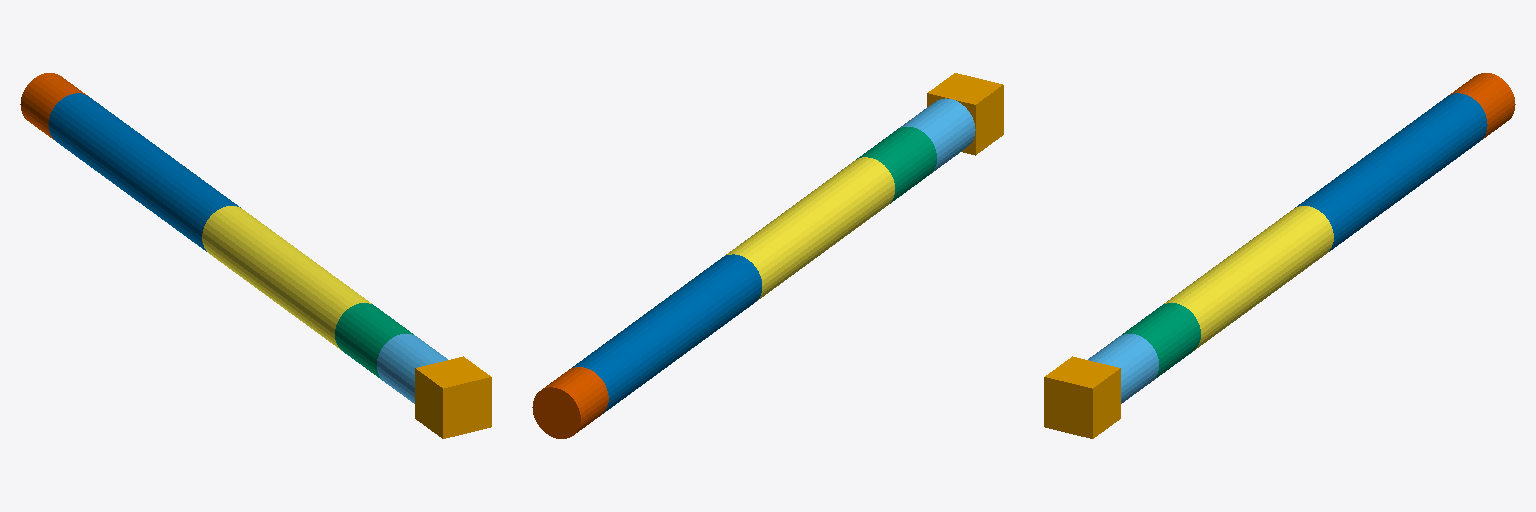
The robot description file, URDF, robot "robot_brazo":
<?xml version="1.0"?>
<robot name="robot_brazo">
    <static> false </static>
    <link name="base">
        <visual>
        <geometry>
            <box size="0.4 0.4 0.4"/>
        </geometry>
        <origin rpy="0 0 0" xyz="0 0 0"/>
        </visual>
        <collision>
        <origin xyz="0 0 0" rpy="0 0 0" />
        <geometry>
            <box size="0.4 0.4 0.4"/>
        </geometry>
        </collision>
        <inertial>
        <mass value="1.05" />
        <inertia ixx="6.905" ixy="0.82" ixz="0.0" iyy="3.99" iyz="0.0" izz="6.58" />
        </inertial>
    </link>
    <gazebo reference="base">
        <material>Gazebo/Blue</material>
    </gazebo>

    <joint name="base-0_joint" type="revolute">
        <parent link="base"/>
        <child link="0_link"/>
        <origin rpy="0 0 0" xyz="0 0.2 0"/>
        <axis xyz="1 0 0" />
        <limit effort="300" velocity="0.1" lower="-1.4" upper="1.4"/>
        <dynamics damping="50" friction="1"/>
    </joint>

    <link name="0_link">
        <visual>
        <geometry>
            <cylinder length="0.55" radius="0.2"/>
        </geometry>
        <origin rpy="1.5708 0 0" xyz="0 0.275 0"/>
        </visual>
        <collision>
        <geometry>
            <cylinder length="0.55" radius="0.2"/>
        </geometry>
        <origin rpy="1.5708 0 0" xyz="0 0.275 0"/>
        </collision>
        <inertial>
        <mass value="1.05" />
        <inertia ixx="6.905" ixy="0.82" ixz="0.0" iyy="3.99" iyz="0.0" izz="6.58" />
        </inertial>
    </link>
    <gazebo reference="0_link">
        <material>Gazebo/Black</material>
    </gazebo>

    <joint name="0-1_joint" type="revolute">
        <parent link="0_link"/>
        <child link="1_link"/>
        <origin rpy="0 0 0" xyz="0 0.55 0" />
        <axis xyz="1 0 0" />
        <limit effort="300" velocity="0.1" lower="-1" upper="1"/>
        <dynamics damping="50" friction="1"/>
    </joint>

    <link name="1_link">
        <visual>
        <geometry>
            <cylinder length="0.6" radius="0.2"/>
        </geometry>
        <origin rpy="1.5708 0 0" xyz="0 0.3 0"/>
        
        </visual>
        <collision>
        <geometry>
            <cylinder length="0.6" radius="0.2"/>
        </geometry>
        <origin rpy="1.5708 0 0" xyz="0 0.3 0"/>
        </collision>
        <inertial>
        <mass value="1.553" />
        <inertia ixx="19.69" ixy="2.25" ixz="0.40" iyy="6.09" iyz="-1.97" izz="19.58" />
        </inertial>
    </link>
    <gazebo reference="1_link">
        <material>Gazebo/White</material>
    </gazebo>

    <joint name="1-2_joint" type="revolute">
        <parent link="1_link"/>
        <child link="2_link"/>
        <origin rpy="0 0 0" xyz="0 0.6 0"/>
        <axis xyz="1 0 0" />
        <limit effort="300" velocity="0.1" lower="-1.15" upper="1.15"/>
        <dynamics damping="50" friction="1"/>
    </joint>

    <link name="2_link">
        <visual>
        <geometry>
            <cylinder length="1.9" radius="0.2"/>
        </geometry>
        <origin rpy="1.5708 0 0" xyz="0 0.95 0"/>
        
        </visual>
        <collision>
        <geometry>
            <cylinder length="1.9" radius="0.2"/>
        </geometry>
        <origin rpy="1.5708 0 0" xyz="0 0.95 0"/>
        </collision>
        <inertial>
        <mass value="3.995" />
        <inertia ixx="89.92" ixy="61.25" ixz="10.30" iyy="71.41" iyz="-12.32" izz="141.58" />
        </inertial>
    </link>
    <gazebo reference="2_link">
        <material>Gazebo/Grey</material>
    </gazebo>


    <joint name="2-4_joint" type="revolute">
        <parent link="2_link"/>
        <child link="4_link"/>
        <origin rpy="0 0 0" xyz="0 1.9 0"/>
        <axis xyz="1 0 0" />
        <limit effort="300" velocity="0.1" lower="-1.1" upper="1.85"/>
        <dynamics damping="50" friction="1"/> 
    </joint>

    <link name="4_link">
        <visual>
        <geometry>
            <cylinder length="2.2" radius="0.2"/>
        </geometry>
        <origin rpy="1.5708 0 0" xyz="0 1.1 0"/>
        <material name="blue" />
        </visual>
        <collision>
        <geometry>
            <cylinder length="2.2" radius="0.2"/>
        </geometry>
        <origin rpy="1.5708 0 0" xyz="0 1.1 0"/>
        </collision>
        <inertial>
        <mass value="4.673" />
        <inertia ixx="196.77" ixy="18.68" ixz="4.70" iyy="33.48" iyz="-41.77" izz="188.74" />
        </inertial>
    </link>
    <gazebo reference="4_link">
        <material>Gazebo/White</material>
    </gazebo>

    <joint name="4-5_joint" type="revolute">
        <parent link="4_link"/>
        <child link="5_link"/>
        <origin rpy="0 0 0" xyz="0 2.2 0"/>
        <axis xyz="1 0 0" />
        <limit effort="300" velocity="0.1" lower="-0.85" upper="0.85"/>
        <dynamics damping="50" friction="1"/>
    </joint>

    <link name="5_link">
        <visual>
        <geometry>
            <cylinder length="0.4" radius="0.2"/>
        </geometry>
        <origin rpy="1.5708 0 0" xyz="0 0.2 0"/>
        
        </visual>
        <collision>
        <geometry>
            <cylinder length="0.4" radius="0.2"/>
        </geometry>
        <origin rpy="1.5708 0 0" xyz="0 0.2 0"/>
        </collision>
        <inertial>
        <mass value="0.875" />
        <inertia ixx="5.27" ixy="-22.62" ixz="-15.65" iyy="2.96" iyz="-0.448" izz="4.72" />
        </inertial>
    </link>
    <gazebo reference="5_link">
        <material>Gazebo/Black</material>
    </gazebo>

    <joint name="5-6_joint" type="revolute">
        <parent link="5_link"/>
        <child link="mesh_6_link"/>
        <origin rpy="0 0 0" xyz="0 0.4 0"/>
        <axis xyz="1 0 0" />
        <limit effort="300" velocity="0.1" lower="-0.85" upper="0.85"/>
        <dynamics damping="50" friction="1"/>
    </joint>
    
    <link name="mesh_6_link">
        <collision>
        <origin rpy="3.1416 1.5708 0" xyz="0 0.275 0"/>
        <geometry>
            <box size="1 1 1"/>
        </geometry>
        <surface>
        <friction>
            <ode>
            <mu> 100 </mu>
            <mu2> 50 </mu2>
            </ode>
        </friction>
        </surface>
        </collision>
        <visual>
                <geometry>
                    <mesh>
                     <uri>model://lab2/manorobot/mano.stl</uri>
                     <scale>0.01 0.01 0.01</scale>
                    </mesh>
                </geometry>
                <origin rpy="3.1416 1.5708 0" xyz="0 0.275 0"/>
        </visual>

        <inertial>
            <mass value="0.875" />
            <inertia ixx="1.27" ixy="-2.62" ixz="-5.65" iyy="2.96" iyz="-0.448" izz="4.72" />
        </inertial>
    </link>
    <gazebo reference="mesh_6_link">
        <material>Gazebo/Grey</material>
    </gazebo>

        <!-- Transmissions-->
    <transmission name="tran1">
        <type>transmission_interface/SimpleTransmission</type>
        <joint name="base-0_joint">
        <hardwareInterface>hardware_interface/EffortJointInterface</hardwareInterface>
        </joint>
        <actuator name="motor1">
        <hardwareInterface>hardware_interface/EffortJointInterface</hardwareInterface>
        <mechanicalReduction>1</mechanicalReduction>
        </actuator>
    </transmission>

    <transmission name="tran2">
        <type>transmission_interface/SimpleTransmission</type>
        <joint name="0-1_joint">
        <hardwareInterface>hardware_interface/EffortJointInterface</hardwareInterface>
        </joint>
        <actuator name="motor2">
        <hardwareInterface>hardware_interface/EffortJointInterface</hardwareInterface>
        <mechanicalReduction>1</mechanicalReduction>
        </actuator>
    </transmission>

    <transmission name="tran3">
        <type>transmission_interface/SimpleTransmission</type>
        <joint name="1-2_joint">
        <hardwareInterface>hardware_interface/EffortJointInterface</hardwareInterface>
        </joint>
        <actuator name="motor3">
        <hardwareInterface>hardware_interface/EffortJointInterface</hardwareInterface>
        <mechanicalReduction>1</mechanicalReduction>
        </actuator>
    </transmission>

    <transmission name="tran4">
        <type>transmission_interface/SimpleTransmission</type>
        <joint name="2-4_joint">
        <hardwareInterface>hardware_interface/EffortJointInterface</hardwareInterface>
        </joint>
        <actuator name="motor4">
        <hardwareInterface>hardware_interface/EffortJointInterface</hardwareInterface>
        <mechanicalReduction>1</mechanicalReduction>
        </actuator>
    </transmission>

    <transmission name="tran5">
        <type>transmission_interface/SimpleTransmission</type>
        <joint name="4-5_joint">
        <hardwareInterface>hardware_interface/EffortJointInterface</hardwareInterface>
        </joint>
        <actuator name="motor5">
        <hardwareInterface>hardware_interface/EffortJointInterface</hardwareInterface>
        <mechanicalReduction>1</mechanicalReduction>
        </actuator>
    </transmission>

    <transmission name="tran6">
        <type>transmission_interface/SimpleTransmission</type>
        <joint name="5-6_joint">
        <hardwareInterface>hardware_interface/EffortJointInterface</hardwareInterface>
        </joint>
        <actuator name="motor6">
        <hardwareInterface>hardware_interface/EffortJointInterface</hardwareInterface>
        <mechanicalReduction>1</mechanicalReduction>
        </actuator>
    </transmission>
</robot>

--- Facts derived from the render (not from the file) ---
Views: 3 orthographic renders of the robot side by side, from view 1: azimuth 30°, elevation 25°; view 2: azimuth 150°, elevation 25°; view 3: azimuth 330°, elevation 25°.
Model robot_brazo with 7 links and 6 joints (6 revolute), rooted at base, posed every joint at zero.
Visible links, largest first — view 1: 4_link, 2_link, base, 1_link, 0_link, 5_link; view 2: 4_link, 2_link, 5_link, base, 1_link, 0_link; view 3: 4_link, 2_link, base, 1_link, 0_link, 5_link.
Link boxes in pixels (<box>): 4_link: <box>48,93,240,251</box>; 2_link: <box>202,206,371,350</box>; base: <box>415,356,491,438</box>; 1_link: <box>335,303,413,380</box>; 0_link: <box>377,334,447,403</box>; 5_link: <box>20,73,87,139</box>; 4_link: <box>569,254,761,413</box>; 2_link: <box>725,157,894,301</box>; 5_link: <box>532,367,608,438</box>; base: <box>927,73,1003,155</box>; 1_link: <box>856,127,936,203</box>; 0_link: <box>898,98,975,173</box>; 4_link: <box>1295,93,1487,251</box>; 2_link: <box>1164,206,1333,350</box>; base: <box>1044,356,1120,438</box>; 1_link: <box>1122,303,1200,380</box>; 0_link: <box>1088,334,1158,403</box>; 5_link: <box>1448,73,1515,139</box>.
Bounding box of the posed robot: 0.4 × 6.05 × 0.4 m (x, y, z).
Geometry: primitives only (box / cylinder / sphere), no mesh files.